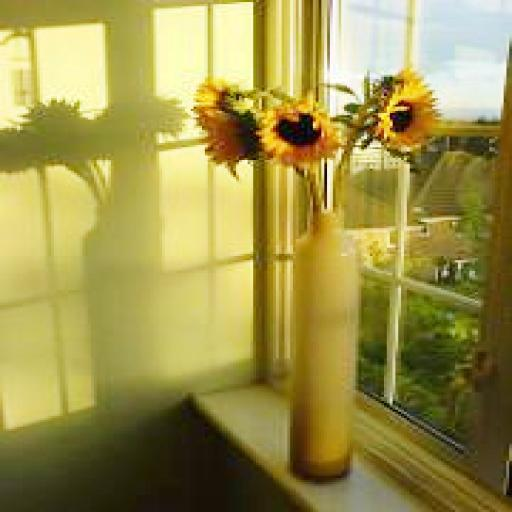sunflower: (191, 86, 253, 168), (258, 105, 336, 160), (378, 84, 436, 150)
